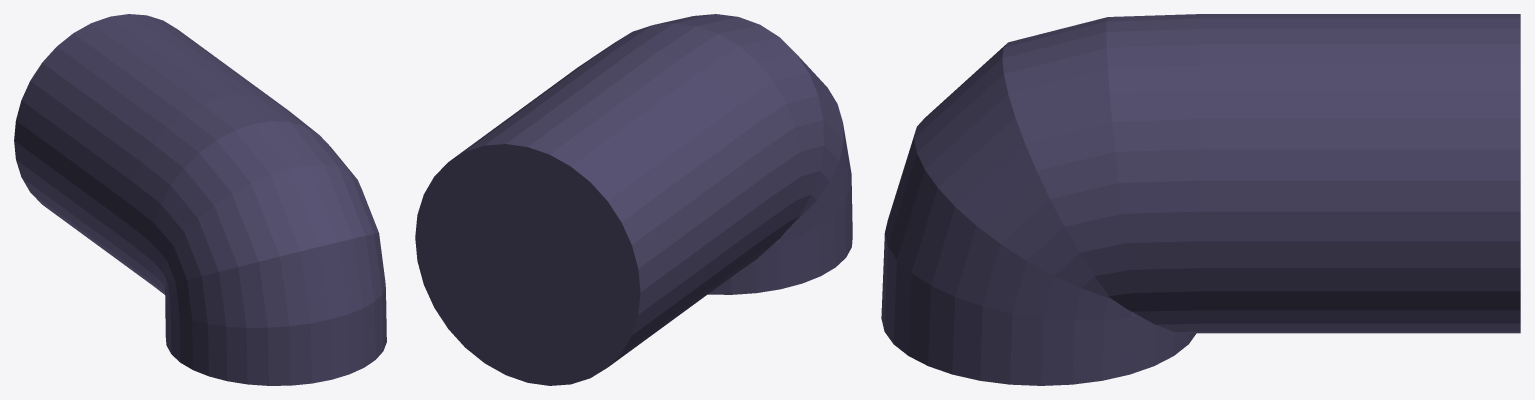
File: Reactor-floorlamp1.glb
3 views of the same model, side by side, from view 1: azimuth 30°, elevation 25°; view 2: azimuth 150°, elevation 25°; view 3: azimuth 270°, elevation 25° (orthographic). The views are drawn at different scales.
Parts seen in each view (by area): view 1: Cylinder.001; view 2: Cylinder.001; view 3: Cylinder.001.
Boxes of the visible parts, x1,y1,x2,y2 form: Cylinder.001: (14, 14, 386, 385); Cylinder.001: (415, 14, 852, 385); Cylinder.001: (881, 14, 1520, 385).
Bounding box in the file's own units: 2 × 2.01 × 4.
